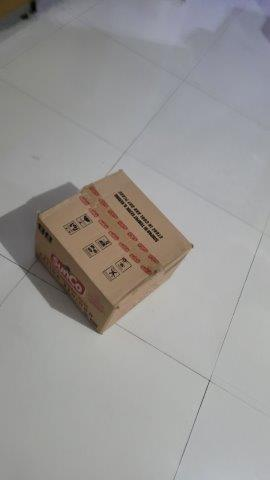kardus: (36, 170, 194, 333)
